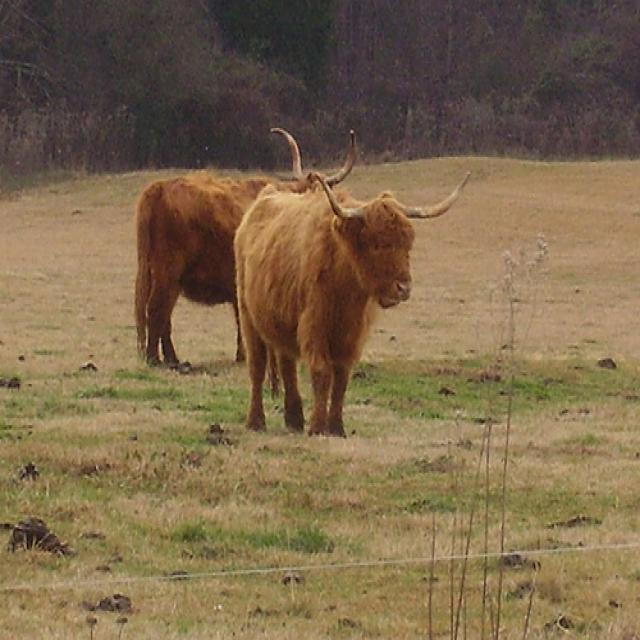cow: (228, 164, 474, 437), (132, 120, 357, 372)
